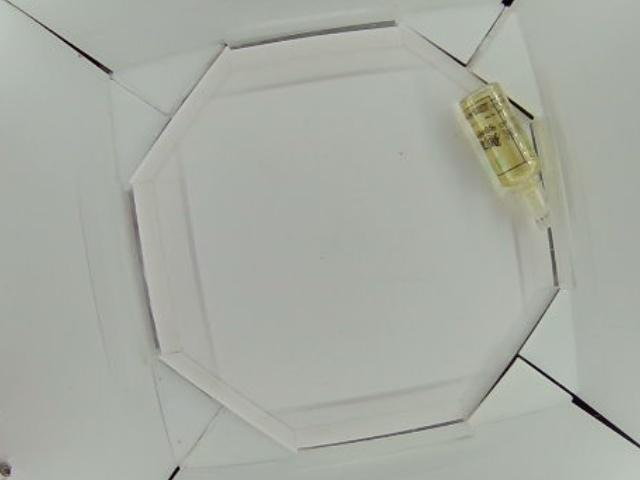Bottle: (458, 84, 552, 229)
